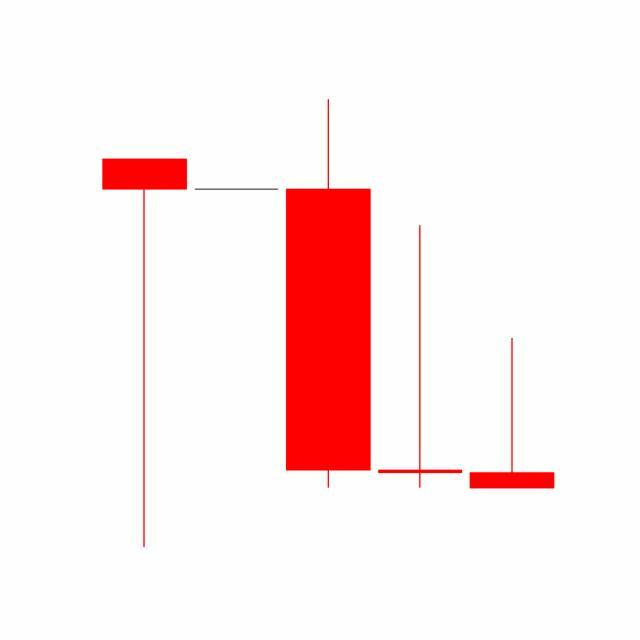Gravestone Doji: (466, 337, 559, 491)
